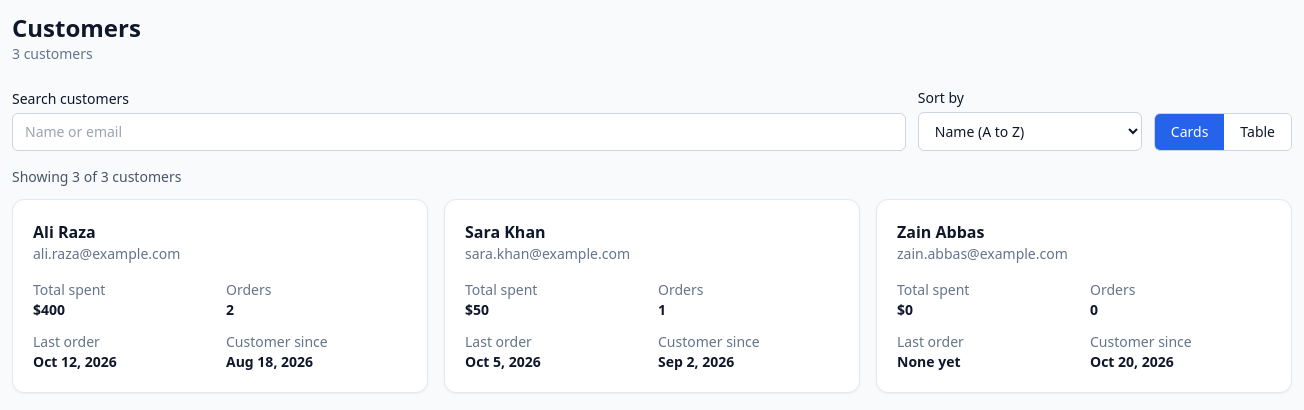
Scenario: CustomersPage › switches between the card view and the table view
This screenshot has width=1304, height=410.
Expected: the link "Ali Raza" is shown, [33, 221, 96, 243]
Click the button "Table" at (1258, 132), box [1224, 114, 1291, 150]
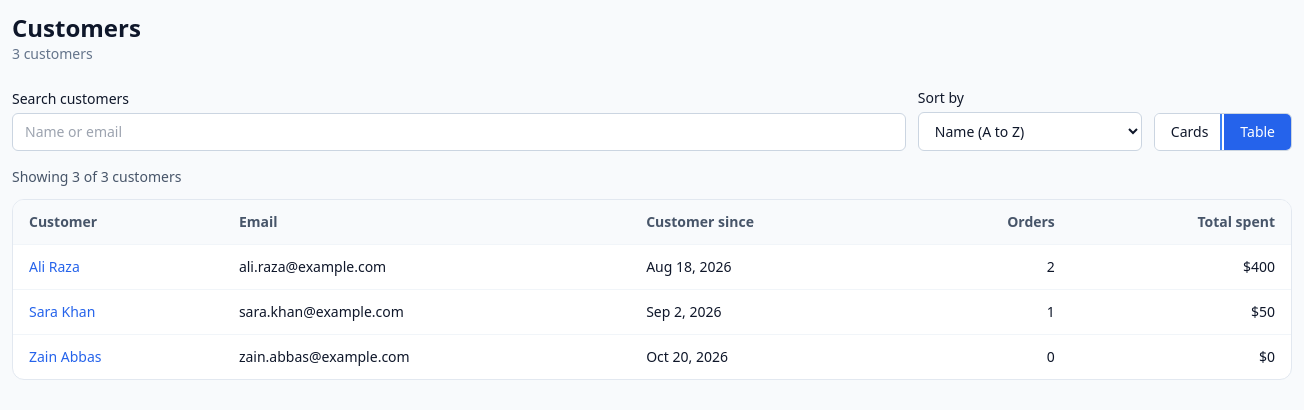
Result: the table is shown at [13, 200, 1291, 379]
Result: the number of rows is 4 at [13, 200, 1291, 244]; [13, 244, 1291, 290]; [13, 290, 1291, 334]; [13, 334, 1291, 379]
Click the button "Cards" at (1190, 132), box [1155, 114, 1224, 150]
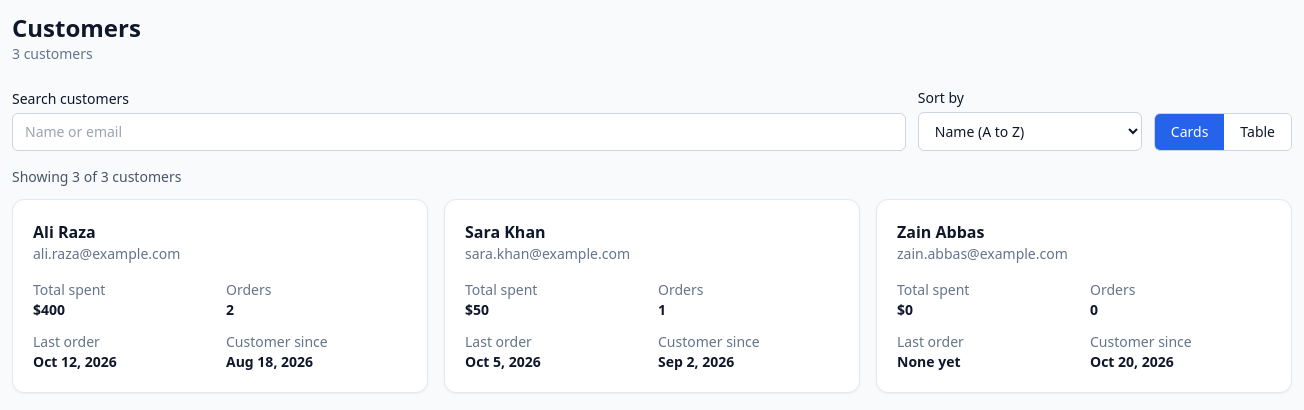
Result: the table is gone
